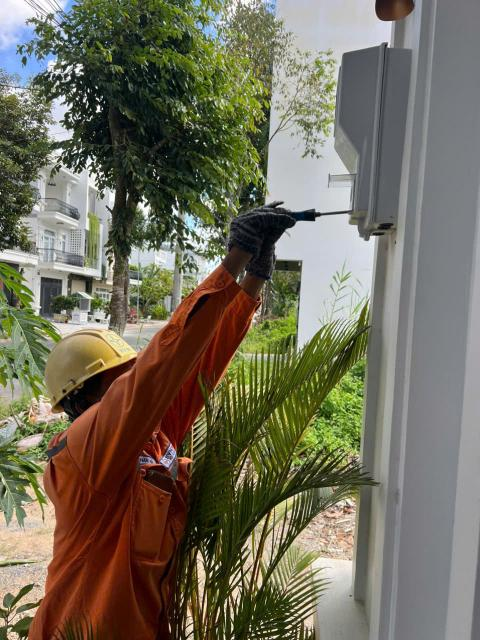gloves: (233, 200, 302, 288), (228, 196, 294, 267)
helmet: (15, 320, 165, 412)
